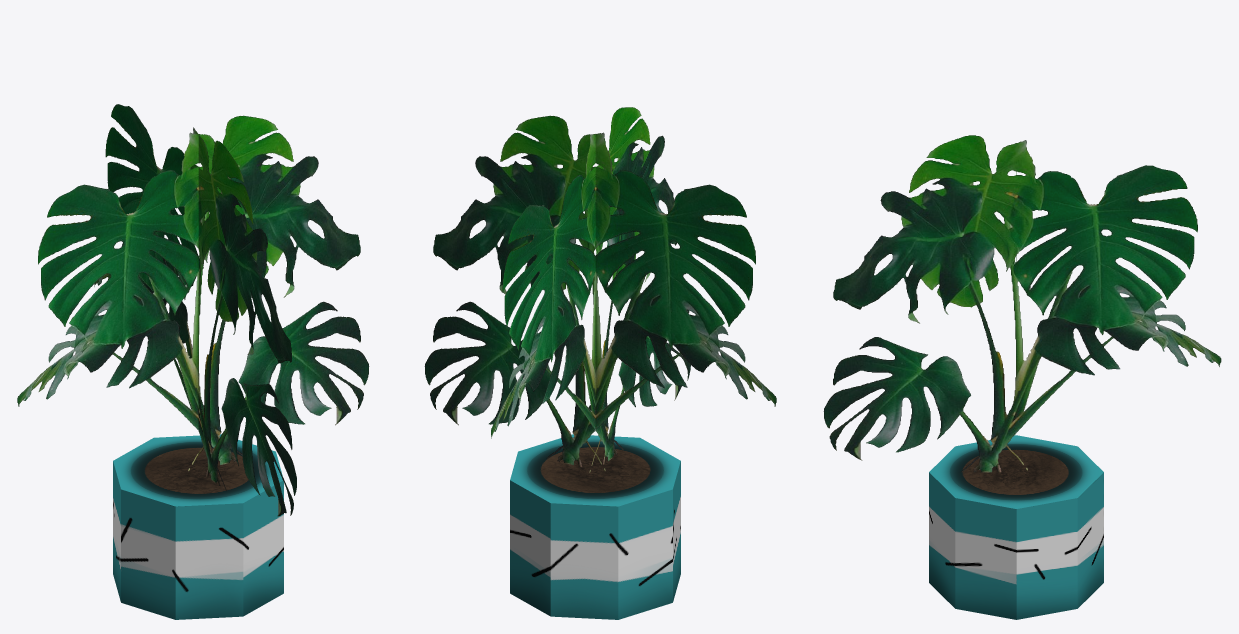
File: plant3.gltf
The picture shows the model from 3 angles, left to right: view 1: azimuth 30°, elevation 25°; view 2: azimuth 150°, elevation 25°; view 3: azimuth 270°, elevation 25°; orthographic projection. The views are drawn at different scales.
Parts seen in each view (by area): view 1: plant3, vase1; view 2: plant3, vase1; view 3: plant3, vase1.
Part boxes in pixels (x1,y1,x2,y2): plant3: (17,104,369,516); vase1: (113,434,283,619); plant3: (424,107,776,472); vase1: (510,434,680,619); plant3: (823,135,1221,472); vase1: (929,435,1103,619).
Bounding box in the file's own units: 1.26 × 1.6 × 1.26.
Materials: 2 (2 with a texture image).
